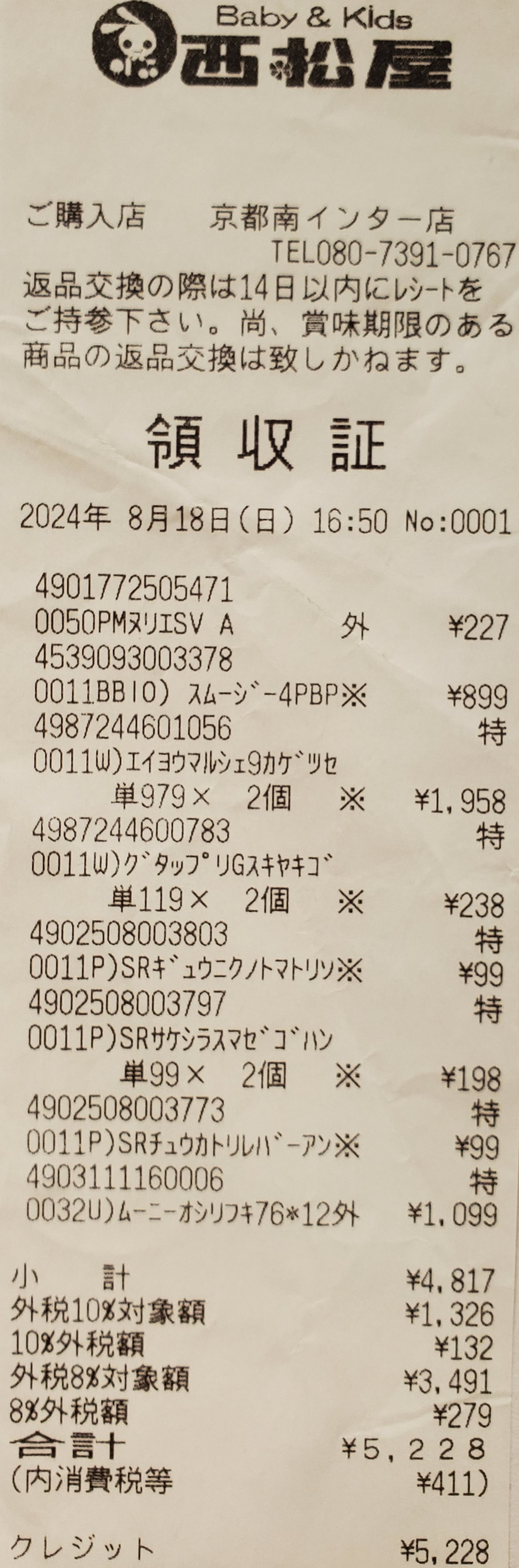Date: (13, 495, 235, 539)
Shopname: (181, 27, 466, 108)
Telnum: (311, 231, 519, 266)
Totalpay: (5, 1432, 515, 1464)
